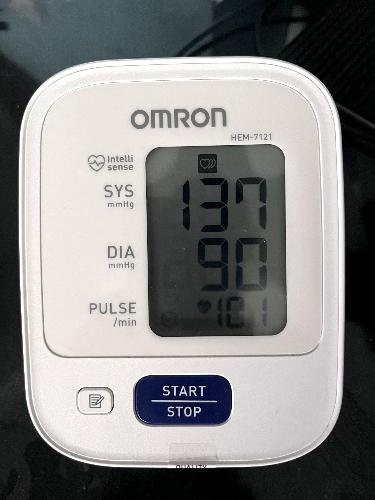bpm: (144, 142, 290, 338)
